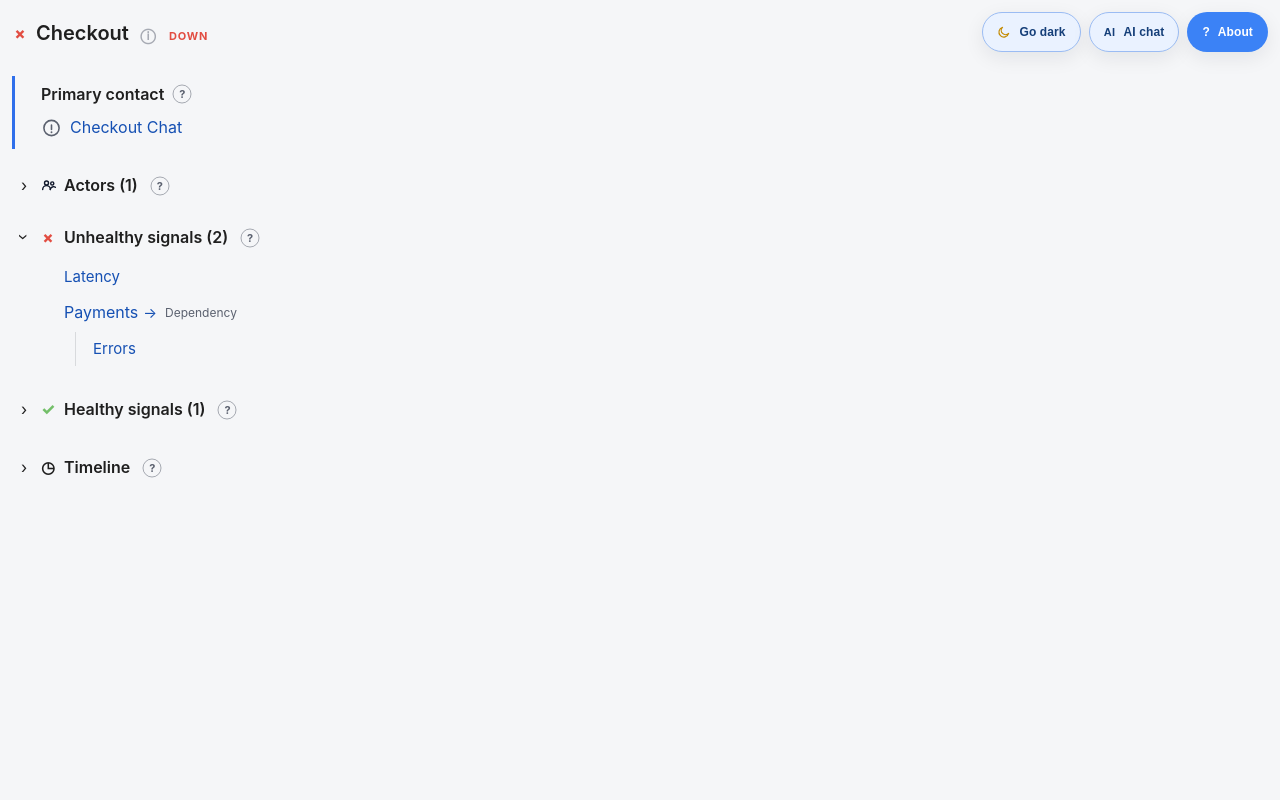
Test: DetailsPanel contextual help › renders Timeline as a standard disclosure with contextual help
The image size is (1280, 800).
Click the button named "About Timeline" at (152, 468), box [138,454,166,482]
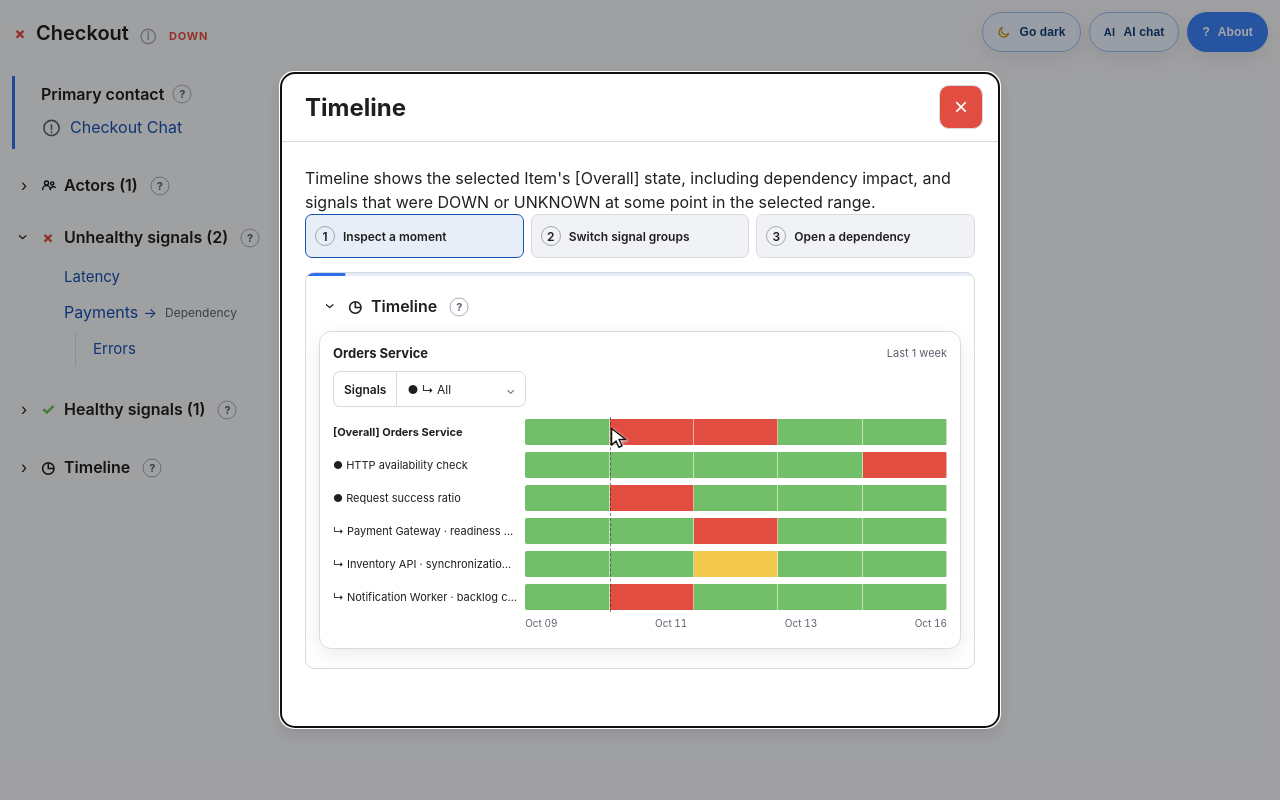
Check: the dialog named "About Timeline" shows "Timeline shows the selected Item's [Overall] state, including dependency impact", box [305,168,951,212]
Check: the dialog named "About Timeline" shows "Inspect a moment", box [305,214,524,258]
Check: the dialog named "About Timeline" shows "Switch signal groups", box [531,214,749,258]
